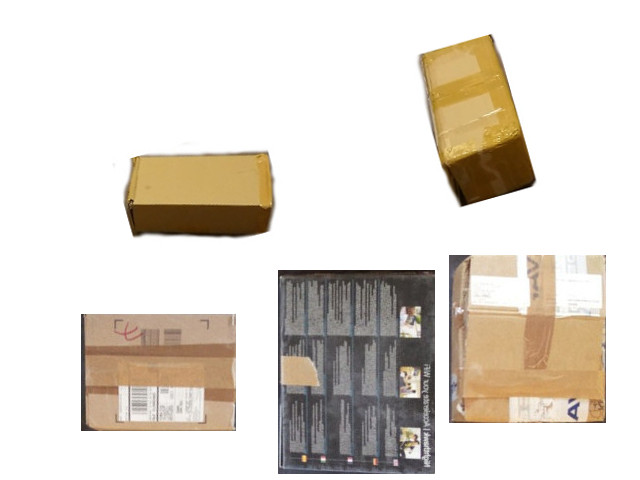cardboard: (278, 270, 434, 472), (453, 256, 607, 421), (421, 34, 533, 202), (83, 312, 237, 432), (129, 153, 271, 232)
